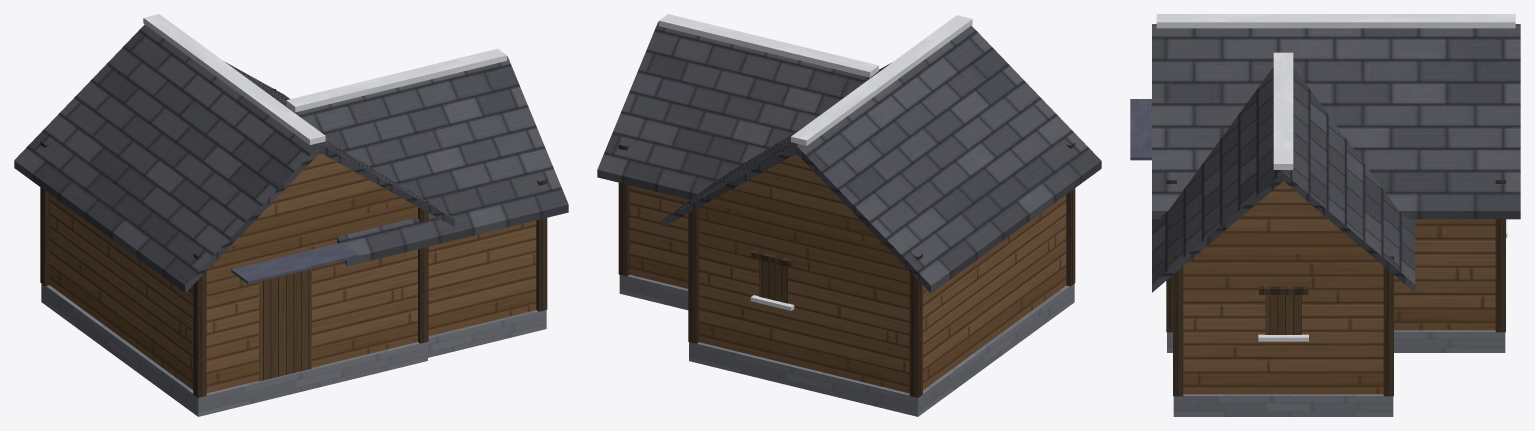
The model's file is ae_snow_wood_medium_l_lod1.glb.
The picture shows the model from 3 angles, left to right: view 1: azimuth 30°, elevation 25°; view 2: azimuth 150°, elevation 25°; view 3: azimuth 270°, elevation 25°; orthographic projection. The views are drawn at different scales.
Visible parts, largest first — view 1: ae_snow_wood_medium_l_lod1; view 2: ae_snow_wood_medium_l_lod1; view 3: ae_snow_wood_medium_l_lod1.
Boxes of the visible parts, x1=… form: ae_snow_wood_medium_l_lod1: x1=14, y1=14, x2=568, y2=416; ae_snow_wood_medium_l_lod1: x1=597, y1=14, x2=1101, y2=416; ae_snow_wood_medium_l_lod1: x1=1130, y1=14, x2=1520, y2=416.
Size of the model in its own units: 7.25 by 4.6 by 5.93.
Materials: 1 (1 with a texture image).
